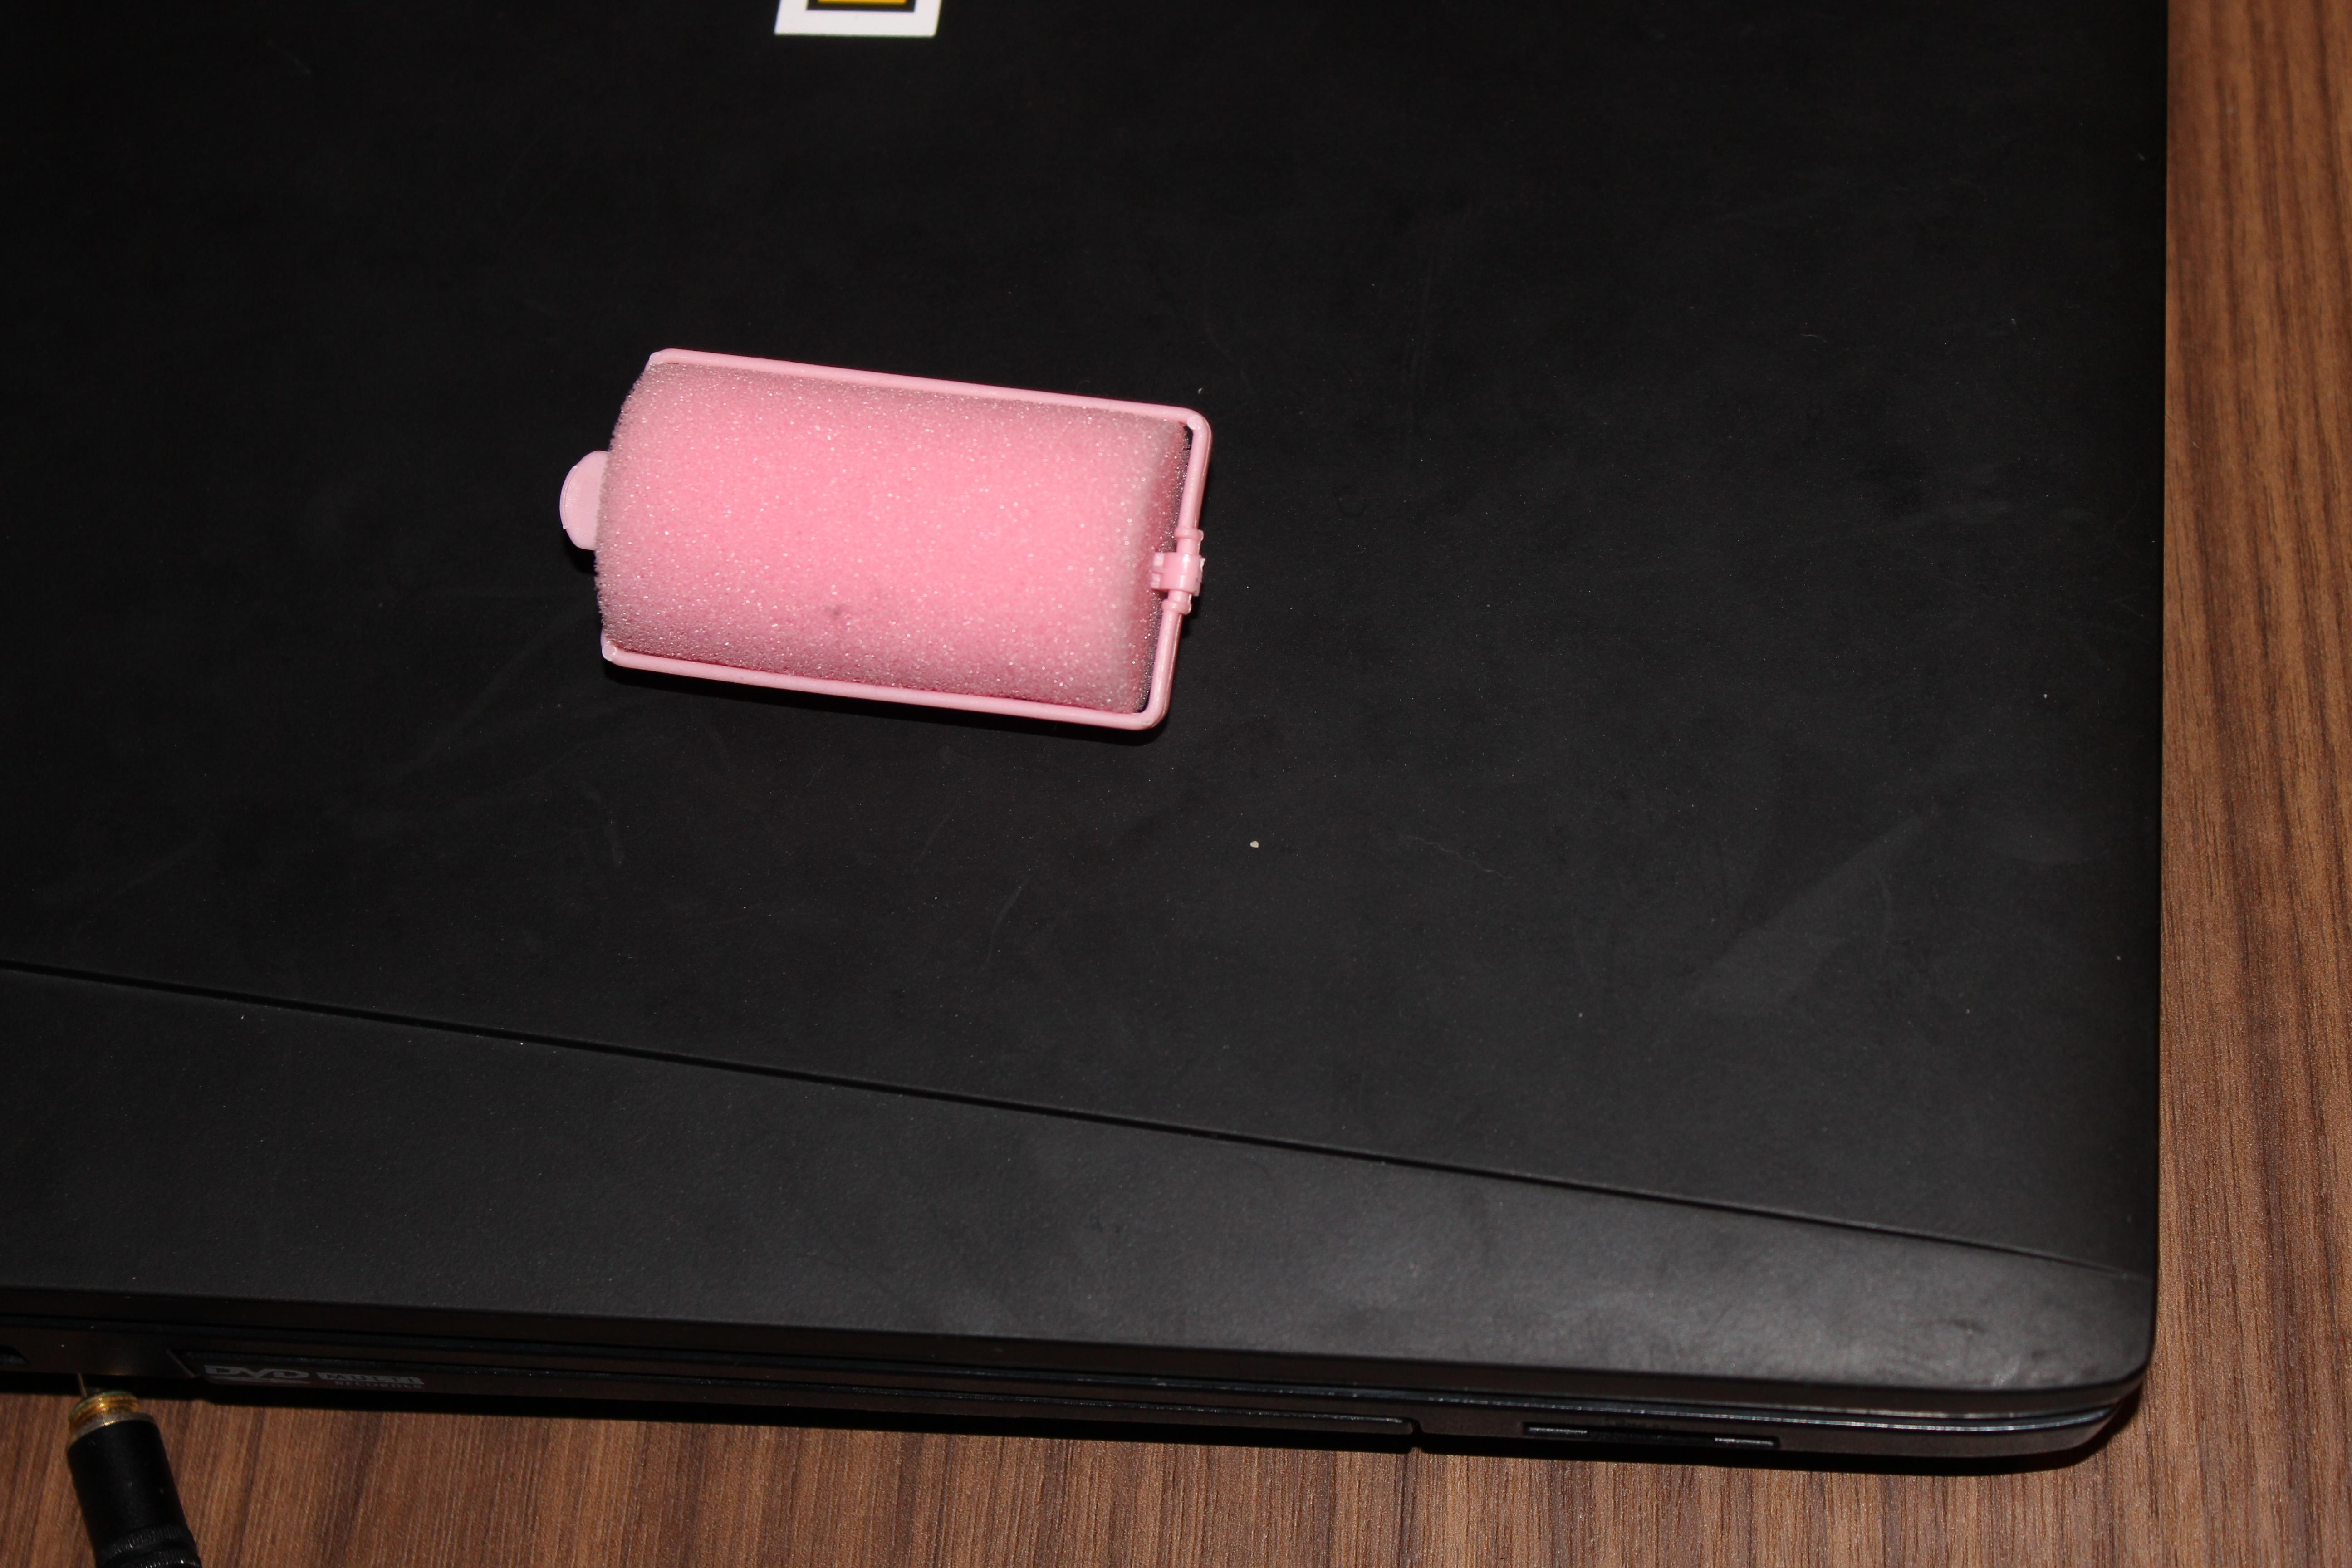hairRoller: (535, 311, 1258, 784)
